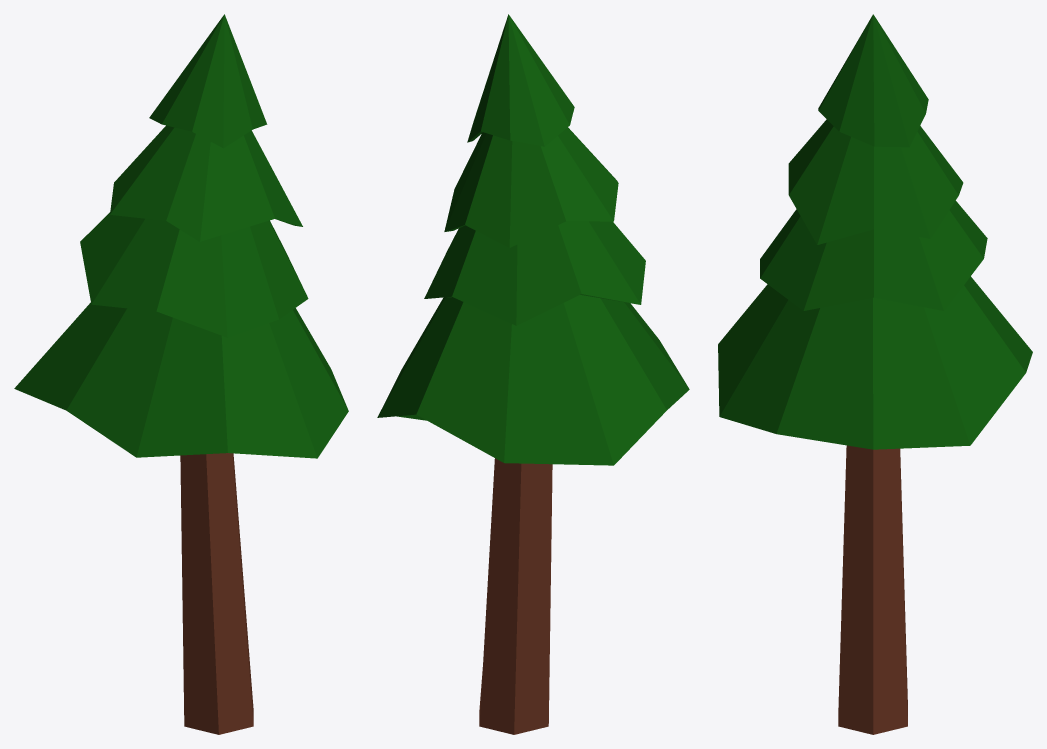
The model's file is Arbol2.fbx.
The picture shows the model from 3 angles, left to right: view 1: azimuth 30°, elevation 25°; view 2: azimuth 150°, elevation 25°; view 3: azimuth 270°, elevation 25°; orthographic projection.
Parts seen in each view (by area): view 1: Arbol3; view 2: Arbol3; view 3: Arbol3.
Boxes of the visible parts, x1,y1,x2,y2 form: Arbol3: [14, 14, 348, 734]; Arbol3: [377, 14, 689, 734]; Arbol3: [718, 14, 1032, 734].
Bounding box in the file's own units: 213 × 539 × 218.
